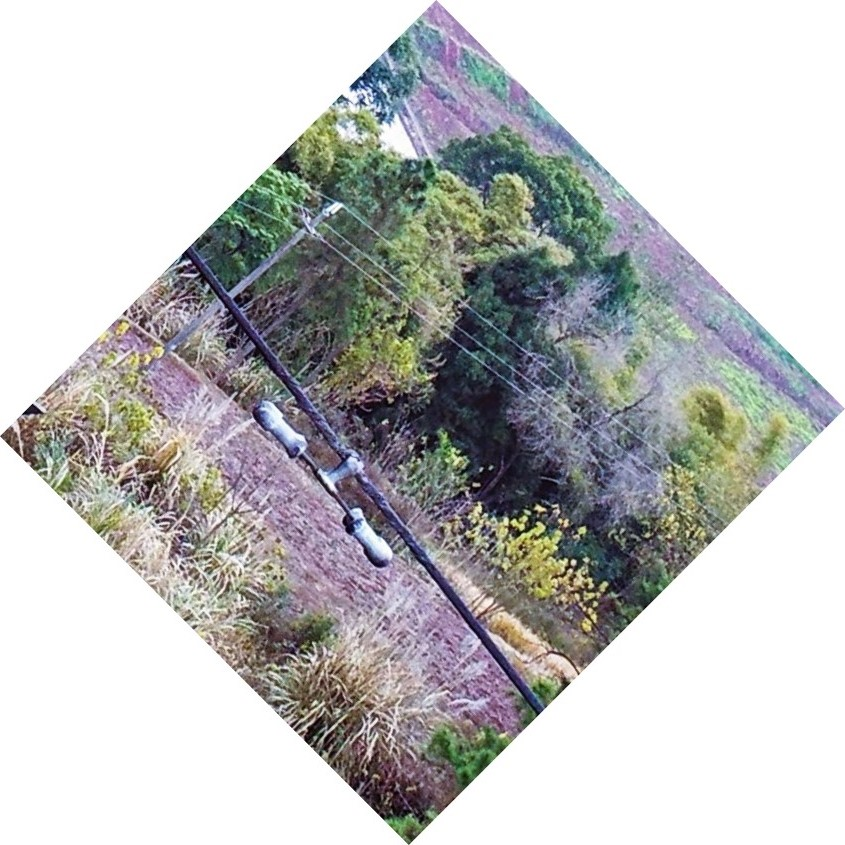Shockproof hammer: (245, 367, 412, 575)
